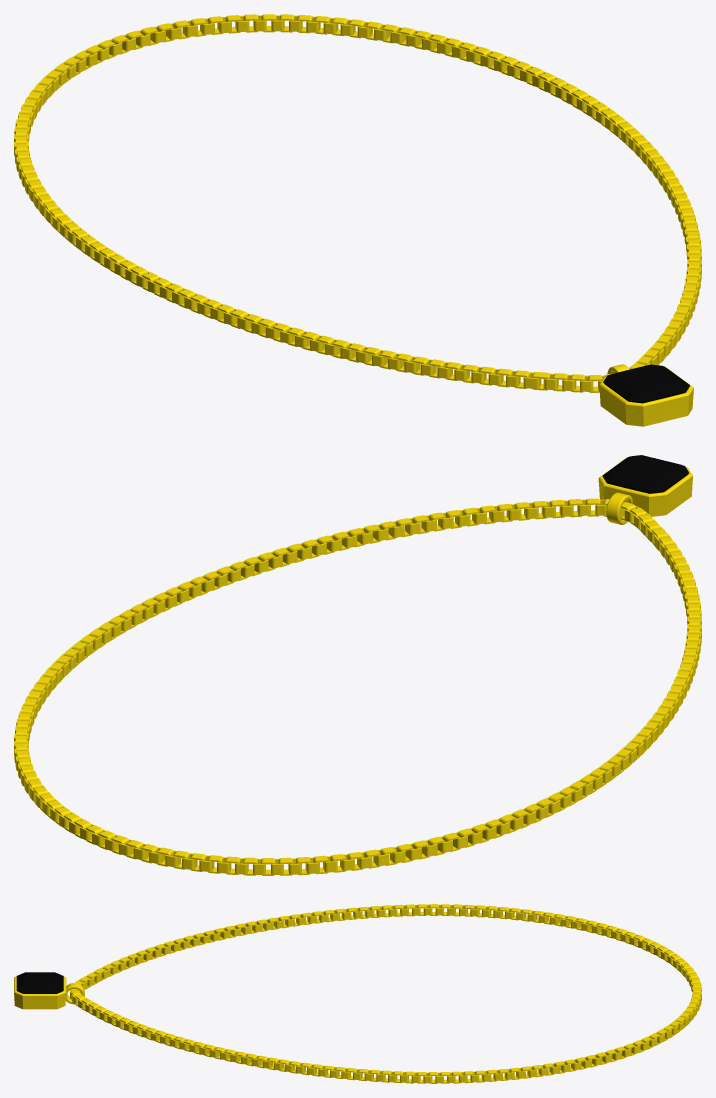
File: pendant-square.glb
3 views of the same model, one above another, from view 1: azimuth 30°, elevation 25°; view 2: azimuth 150°, elevation 25°; view 3: azimuth 270°, elevation 25° (orthographic). The views are drawn at different scales.
Parts seen in each view (by area): view 1: mesh_1, Diamond_Emerald_Square; view 2: mesh_1, Diamond_Emerald_Square; view 3: mesh_1, Diamond_Emerald_Square.
Part boxes in pixels (x1,y1,x2,y2): mesh_1: (14,14,701,426); Diamond_Emerald_Square: (603,364,689,403); mesh_1: (14,458,701,875); Diamond_Emerald_Square: (602,455,688,493); mesh_1: (14,904,701,1083); Diamond_Emerald_Square: (16,972,63,993).
Size of the model in its own units: 2.03 by 0.1299 by 3.44.
